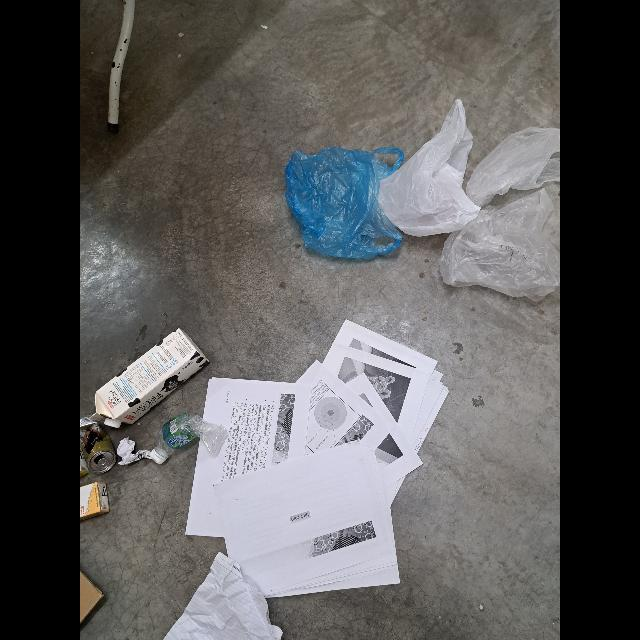aba de lata: (98, 458, 110, 468)
caixinha: (90, 328, 210, 428), (80, 482, 110, 520)
garrafa plástica: (155, 412, 227, 456)
lata: (80, 416, 116, 474)
papel: (184, 318, 450, 596), (162, 552, 282, 640), (118, 435, 154, 465)
papelão: (80, 569, 102, 623)
sacola plástica: (376, 100, 482, 236), (438, 184, 560, 302), (286, 147, 404, 259), (466, 125, 560, 209)
tampa plástica: (150, 450, 166, 464)
